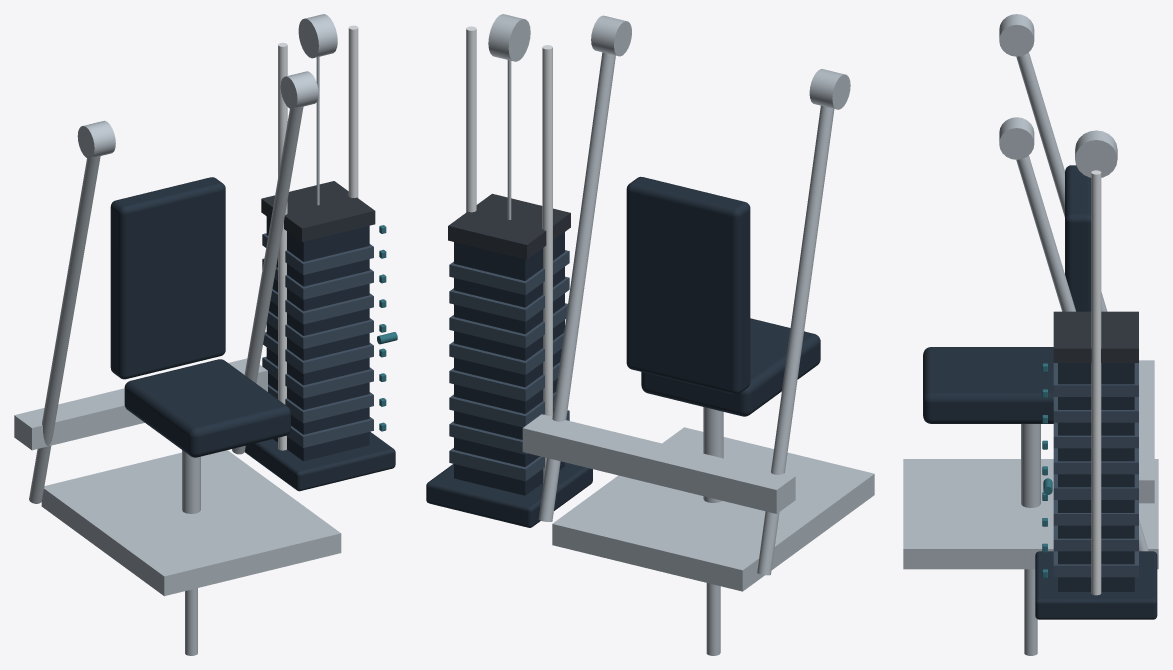
Rendered from chest_press.glb.
3 views of the same model, side by side, from view 1: azimuth 30°, elevation 25°; view 2: azimuth 150°, elevation 25°; view 3: azimuth 270°, elevation 25° (orthographic). The views are drawn at different scales.
Visible parts, largest first — view 1: base, back, seat, weightPlate (×8), stack, Lsupport, pivotBridge, guide (×2), stackBase, stackLift, Rsupport, loadPulley (+5 smaller); view 2: back, base, weightPlate (×8), stack, pivotBridge, Lsupport, Rsupport, seat, guide (×2), stackBase, stackLift, loadPulley (+5 smaller); view 3: base, seat, weightPlate (×8), stack, stackBase, guide, stackLift, back, Rsupport, pivotBridge, Lsupport, post (+4 smaller).
Boxes of the visible parts, x1,y1,x2,y2 form: base: (41, 450, 341, 596); back: (110, 177, 225, 379); seat: (124, 359, 290, 457); weightPlate (×8): (262, 233, 373, 447); stack: (266, 216, 369, 461); Lsupport: (29, 156, 100, 503); pivotBridge: (14, 358, 267, 450); guide (×2): (278, 25, 358, 450); stackBase: (245, 432, 395, 491); stackLift: (261, 181, 375, 241); Rsupport: (232, 106, 303, 454); loadPulley: (298, 14, 337, 58); back: (626, 176, 750, 394); base: (552, 427, 874, 591); weightPlate (×8): (449, 250, 569, 481); stack: (454, 232, 564, 495); pivotBridge: (522, 414, 795, 513); Lsupport: (757, 105, 834, 575); Rsupport: (538, 52, 615, 521); seat: (641, 318, 820, 416); guide (×2): (466, 26, 552, 482); stackBase: (426, 462, 592, 527); stackLift: (448, 193, 570, 259); loadPulley: (488, 14, 530, 61); base: (903, 459, 1158, 569); seat: (923, 347, 1053, 423); weightPlate (×8): (1053, 363, 1138, 577); stack: (1058, 363, 1134, 591); stackBase: (1035, 551, 1157, 619); guide: (1091, 170, 1101, 595); stackLift: (1053, 311, 1138, 362); back: (1065, 165, 1091, 311); Rsupport: (1016, 155, 1148, 551); pivotBridge: (1139, 360, 1154, 503); Lsupport: (1016, 52, 1107, 311); post: (1021, 424, 1040, 507).
Size of the model in its own units: 1.4 by 2.33 by 0.9.
